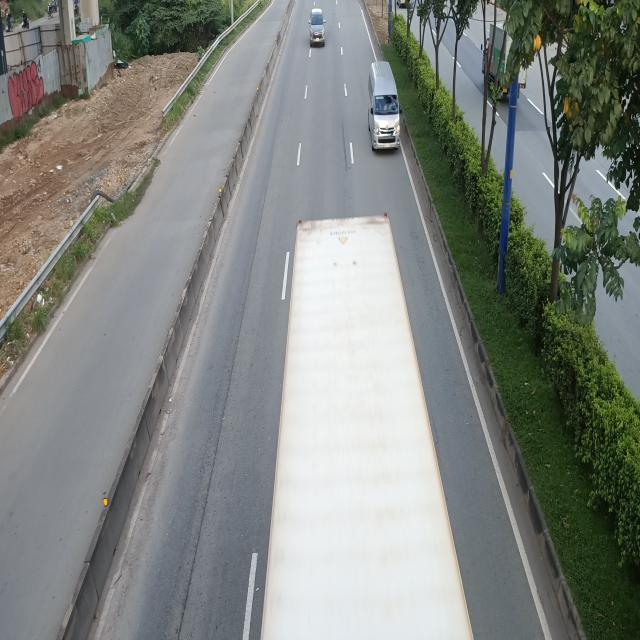car: (310, 8, 326, 47)
container: (259, 219, 475, 640)
van: (367, 64, 401, 154)
